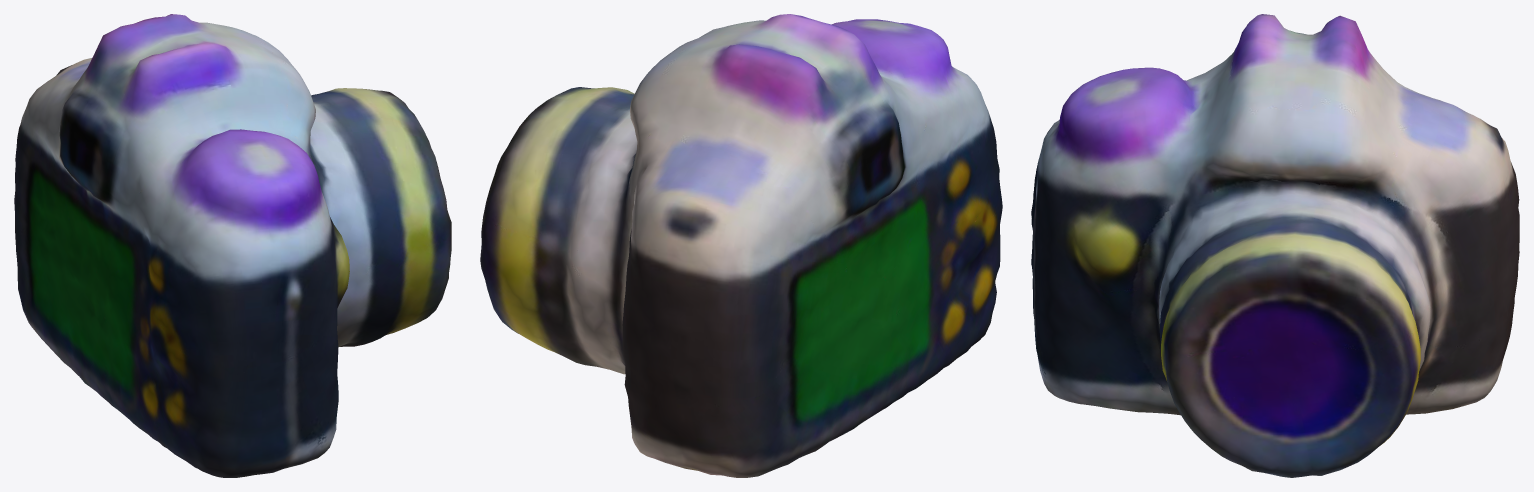
The model's file is ImageProcessing.fbx.
3 renders of one model, left to right at view 1: azimuth 30°, elevation 25°; view 2: azimuth 150°, elevation 25°; view 3: azimuth 270°, elevation 25°, orthographic. The views are drawn at different scales.
Parts seen in each view (by area): view 1: Mesh1; view 2: Mesh1; view 3: Mesh1.
Part boxes in pixels (box(x1,y1,x2,y2)): Mesh1: box(14, 14, 451, 477); Mesh1: box(480, 14, 1002, 477); Mesh1: box(1031, 14, 1519, 477).
Bounding box in the file's own units: 96.7 × 100 × 120.
Materials: 1 (1 with a texture image).
